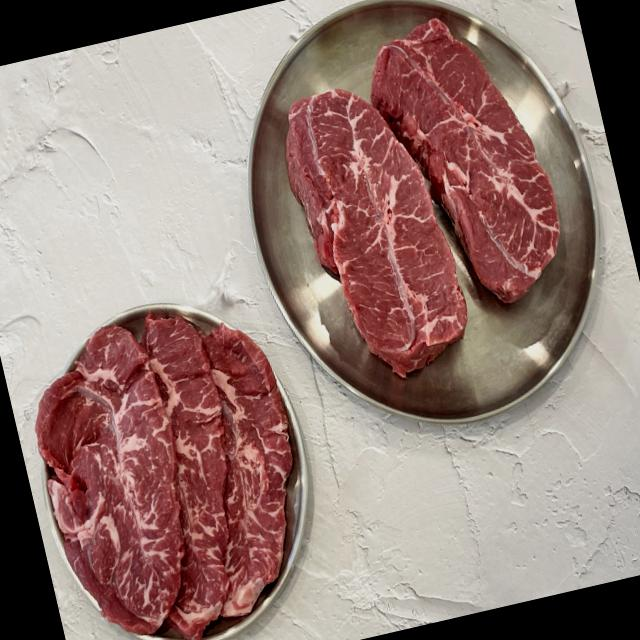beef: (35, 321, 288, 603), (358, 18, 562, 304), (291, 101, 458, 372)
